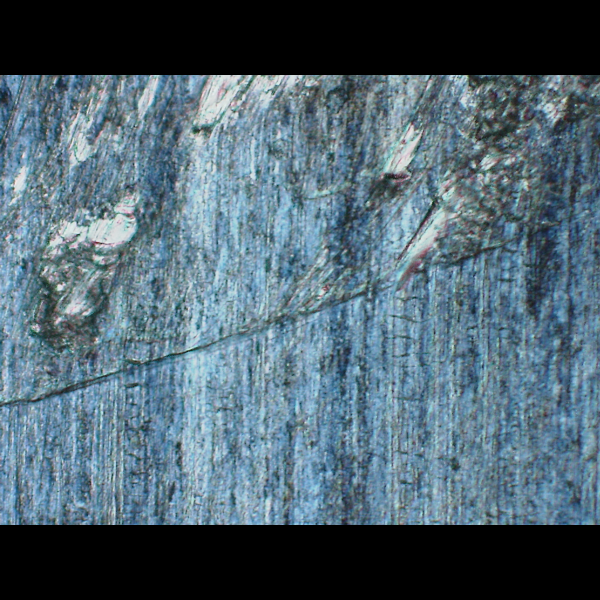d: (2, 74, 595, 415)
